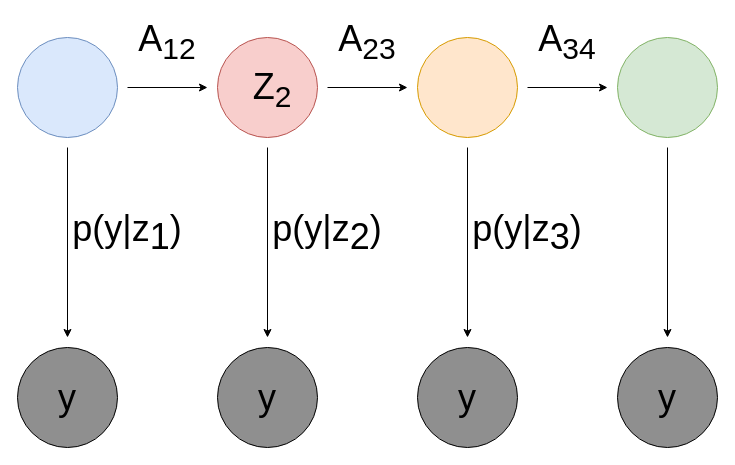
This 735x465 diagram has some shape labels left out. Here are the shapes that lost their labels. From the top down, the centre of each, then its label:
pixel 67 87: Z 1
pixel 467 87: Z 3
pixel 667 87: Z 4
